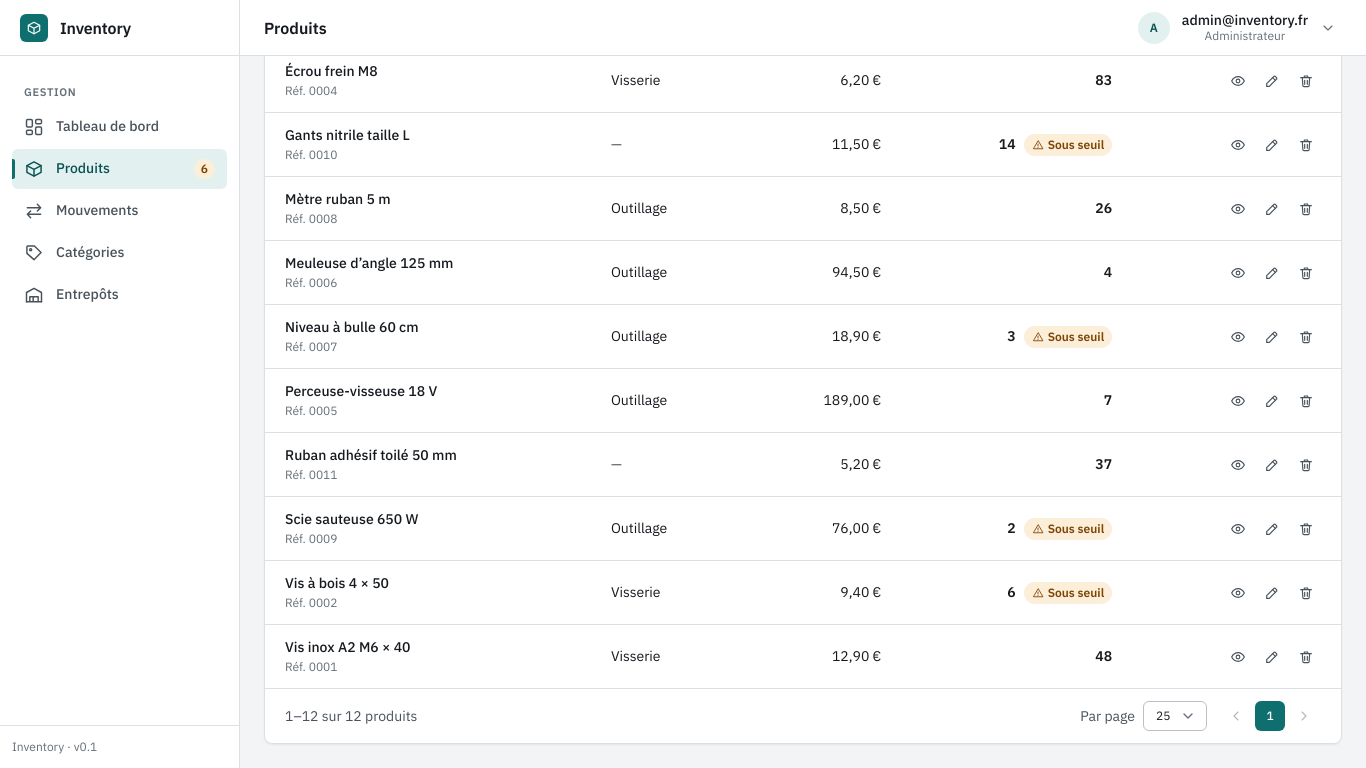
useProductDelete › a product with movements › explains why it cannot be deleted and opens its history from the list
(page scrolled)
Expected: the text "1–12 sur 12 produits" is shown, [285,706,417,724]
What coordinates should you click on to do the following:
click the button named "Supprimer Vis inox A2 M6 × 40"
I would click on:
 (1306, 656)
Its box is [1291,642,1321,672].
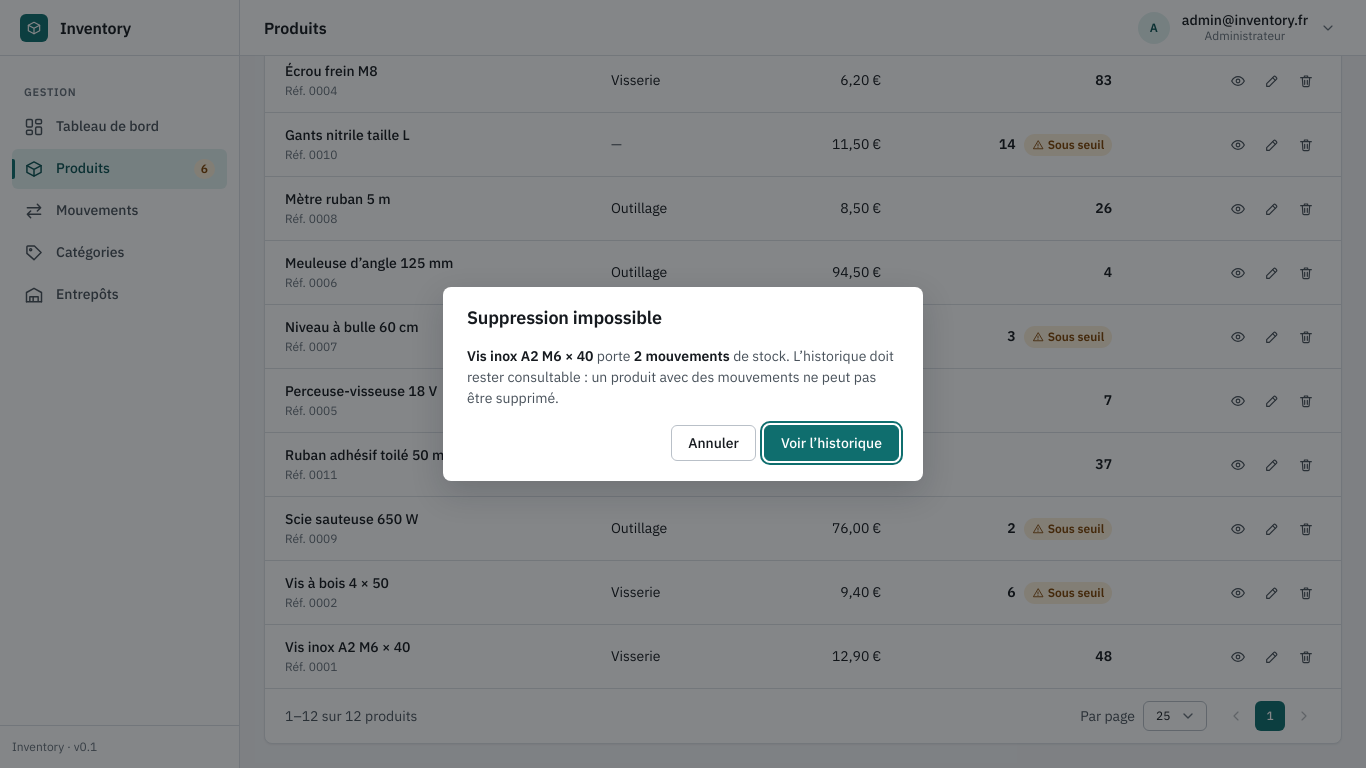
Expected: the dialog "Suppression impossible" shows "Vis inox A2 M6 × 40 porte 2 mouvements de stock. L’historique doit rester consultable : un produit avec des mouvements ne peut pas être supprimé.", [443,287,923,481]
What coordinates should you click on to do the following:
click the button "Voir l’historique"
I would click on:
 (831, 443)
Its box is [764,425,899,461].
(page scrolled)
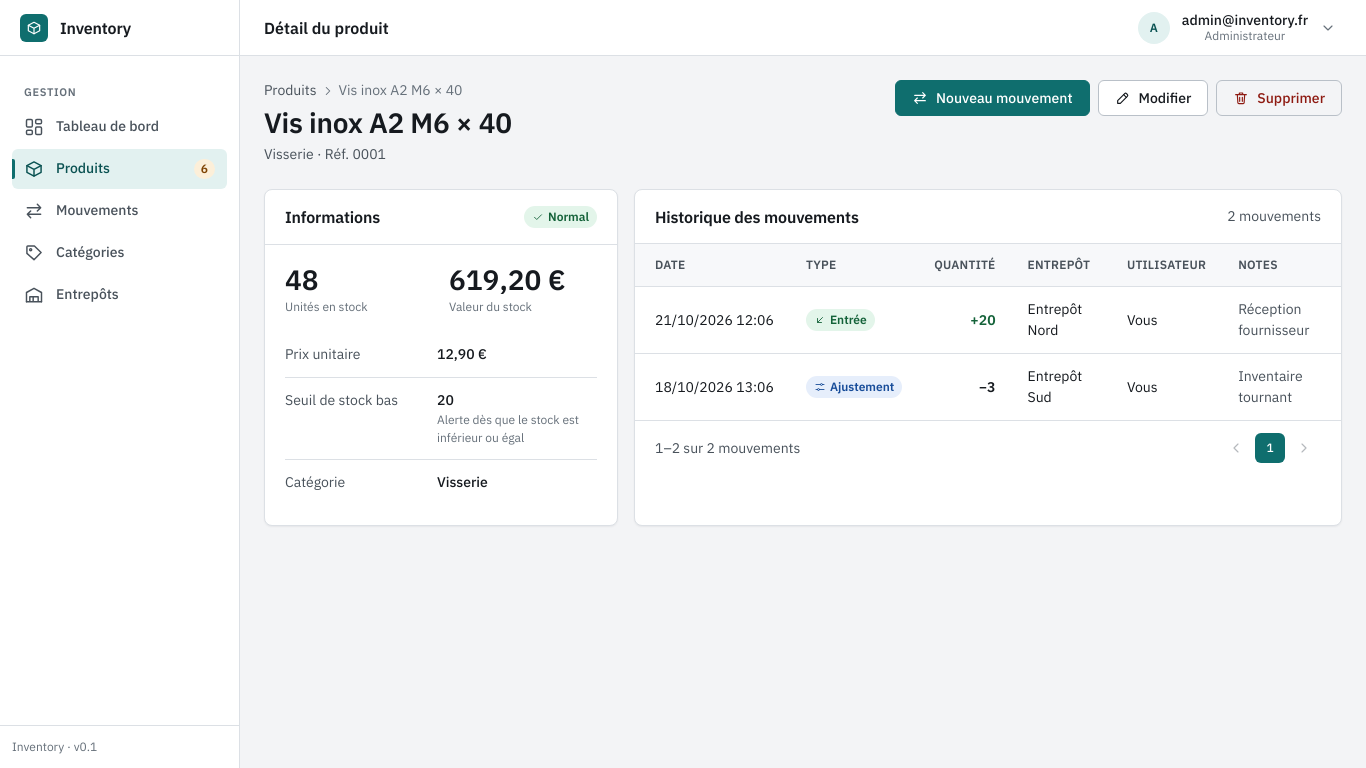
Expected: the dialog is gone
Expected: the heading "Vis inox A2 M6 × 40" is shown, [264,105,512,140]
